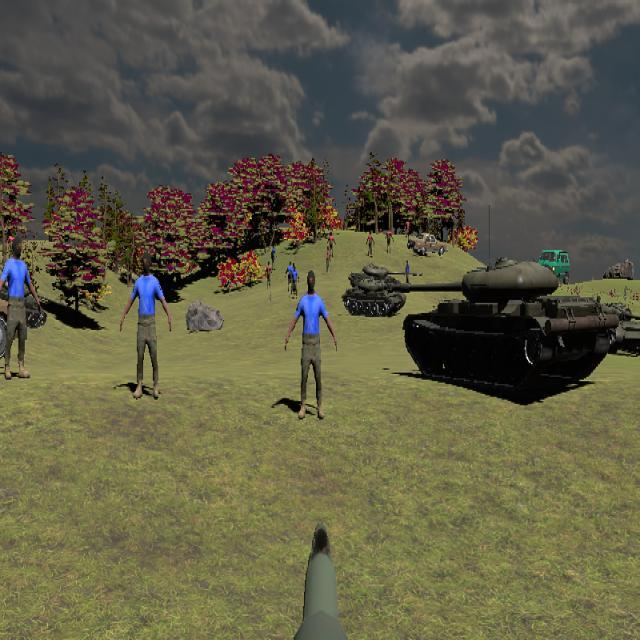Human: (284, 270, 337, 420), (120, 252, 172, 400), (0, 234, 43, 379)
Tank: (383, 260, 616, 395), (346, 263, 424, 303), (346, 263, 423, 302), (342, 276, 413, 317), (611, 307, 640, 358)
car: (538, 249, 570, 284), (407, 233, 448, 257)
